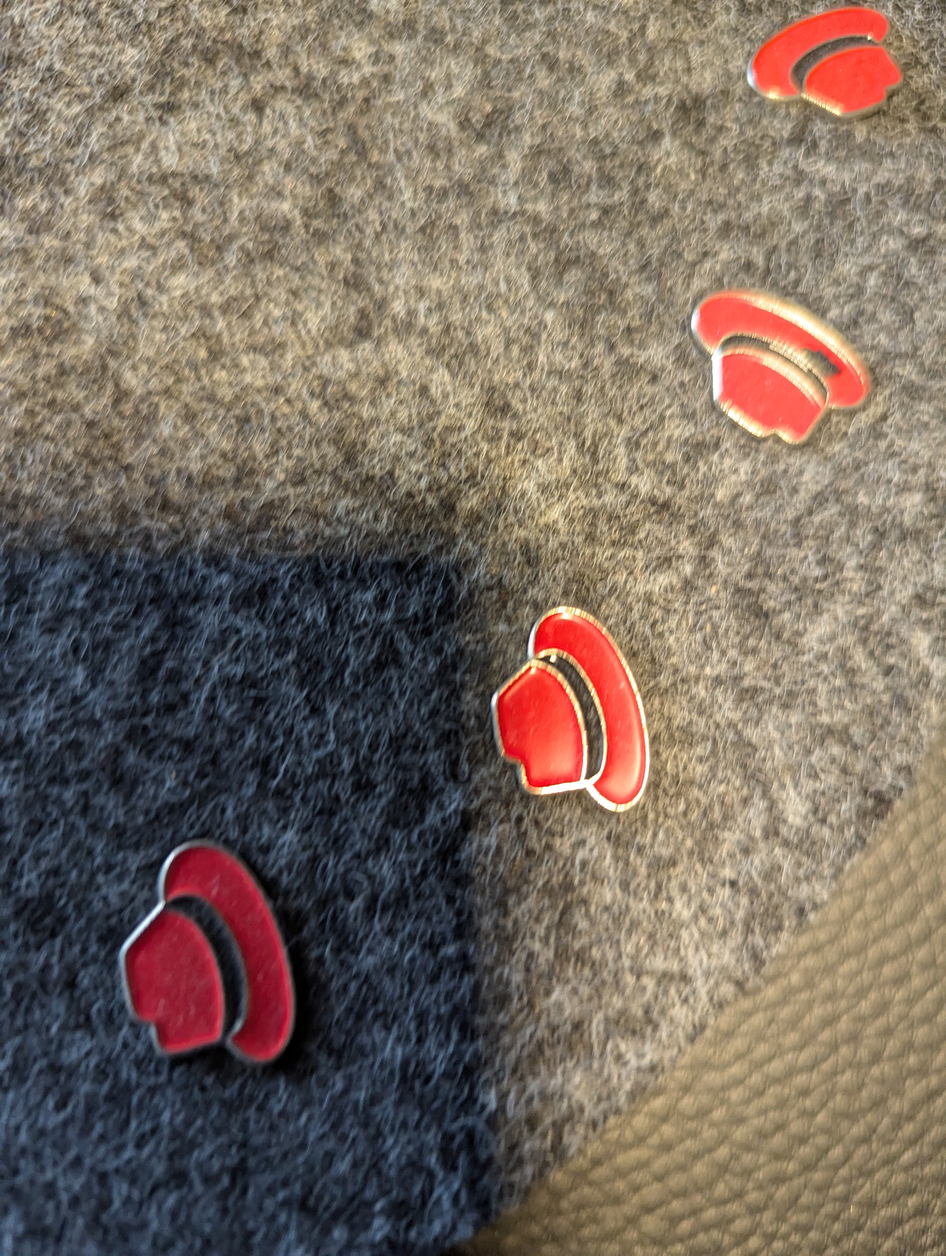Red-Hat: (95, 803, 353, 1080), (488, 573, 689, 861), (666, 266, 897, 476), (729, 0, 926, 148)
Scratch: (791, 321, 850, 401)
